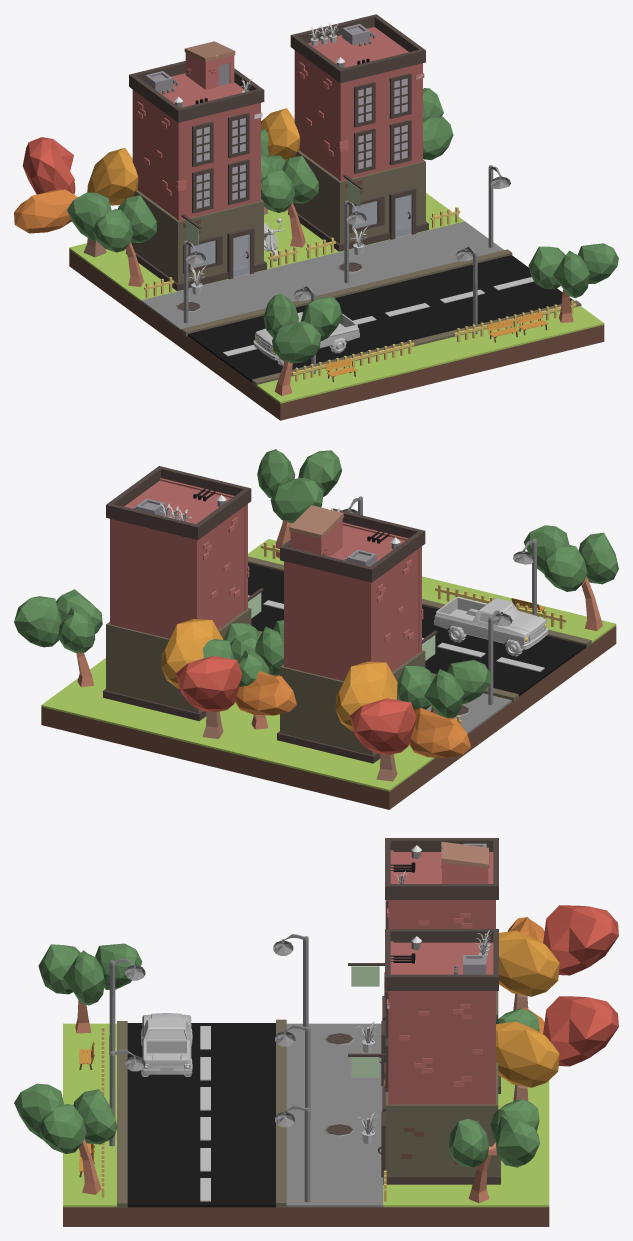
The model's file is townhouse.gltf.
The picture shows the model from 3 angles, top to bottom: view 1: azimuth 30°, elevation 25°; view 2: azimuth 150°, elevation 25°; view 3: azimuth 270°, elevation 25°; orthographic projection. The views are drawn at different scales.
Parts seen in each view (by area): view 1: Cube.014, Cube.025, Cube.001, Cube.050, Cube.024, Cube.038, Cube.015, Cube.004, Cube.068, Cube.006, Cube.003, Cube (+36 smaller); view 2: Cube.050, Cube, Cube.025, Cube.065, Cube.001, Cube.066, Cube.002, Cube.015, Cube.003, Cube.012, Cube.004, Cube.057 (+21 smaller); view 3: Cube.050, Cube.014, Cube.003, Cube.010, Cube.068, Cube.025, Cube.065, Cube.006, Cube.015, Cube.063, Cube.066, Cube.057 (+26 smaller).
Boxes of the visible parts, box(x1,y1,x2,y2) form: Cube.014: box(350, 255, 573, 340); Cube.025: box(14, 137, 138, 257); Cube.001: box(69, 249, 442, 420); Cube.050: box(294, 27, 408, 178); Cube.024: box(176, 103, 260, 220); Cube.038: box(338, 63, 422, 181); Cube.015: box(293, 150, 425, 243); Cube.004: box(131, 190, 263, 283); Cube.068: box(303, 221, 503, 289); Cube.006: box(141, 261, 341, 330); Cube.003: box(188, 294, 411, 382); Cube: box(132, 73, 244, 217); Cube.050: box(110, 480, 244, 638); Cube: box(284, 525, 418, 681); Cube.025: box(335, 661, 470, 781); Cube.065: box(161, 619, 296, 738); Cube.001: box(215, 626, 616, 809); Cube.066: box(41, 658, 253, 748); Cube.002: box(215, 714, 435, 791); Cube.015: box(106, 607, 251, 712); Cube.003: box(422, 605, 586, 696); Cube.012: box(523, 525, 618, 630); Cube.004: box(280, 650, 425, 755); Cube.057: box(14, 589, 102, 687); Cube.050: box(393, 942, 495, 1104); Cube.014: box(127, 1114, 275, 1207); Cube.003: box(127, 1023, 275, 1113); Cube.010: box(63, 1207, 549, 1226); Cube.068: box(286, 1114, 383, 1207); Cube.025: box(499, 905, 618, 1010); Cube.065: box(496, 996, 618, 1101); Cube.006: box(286, 1023, 383, 1114); Cube.015: box(385, 1063, 498, 1176); Cube.063: box(14, 1083, 117, 1194); Cube.066: box(383, 1114, 549, 1207); Cube.057: box(448, 1099, 539, 1203).
Size of the model in its own units: 28.38 by 14.14 by 30.58.
